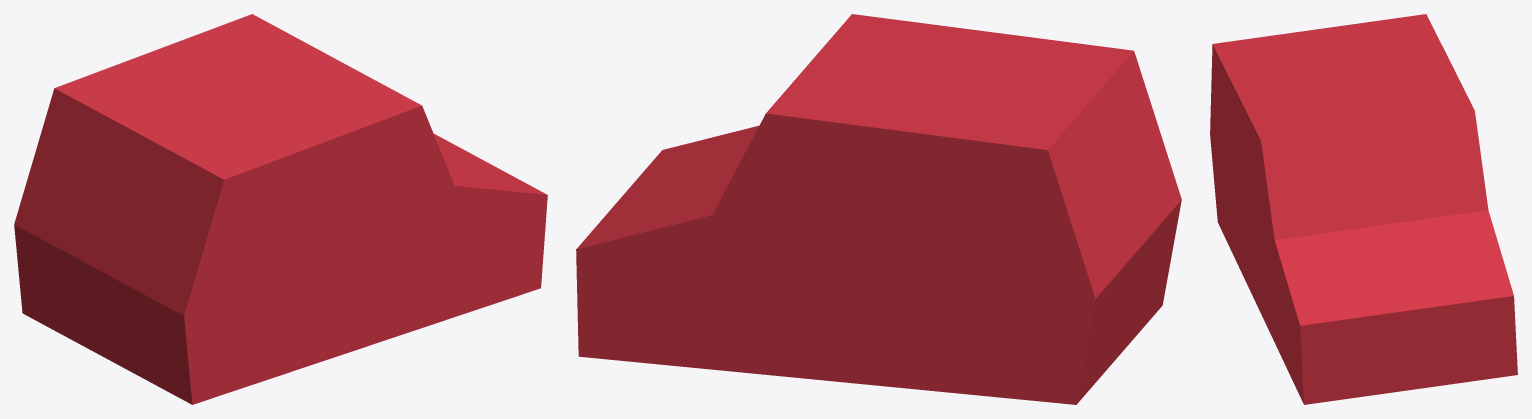
Rendered from 01_voiture.glb.
3 views of the same model, side by side, from view 1: azimuth 30°, elevation 25°; view 2: azimuth 150°, elevation 25°; view 3: azimuth 270°, elevation 25° (orthographic). The views are drawn at different scales.
Visible parts, largest first — view 1: VOITURE.clone.001; view 2: VOITURE.clone.001; view 3: VOITURE.clone.001.
Boxes of the visible parts, box(x1,y1,x2,y2) form: VOITURE.clone.001: box(14, 14, 547, 404); VOITURE.clone.001: box(576, 14, 1181, 404); VOITURE.clone.001: box(1210, 14, 1517, 404).
Size of the model in its own units: 0.6207 by 0.3205 by 0.4147.
1 material, 1 textured.
